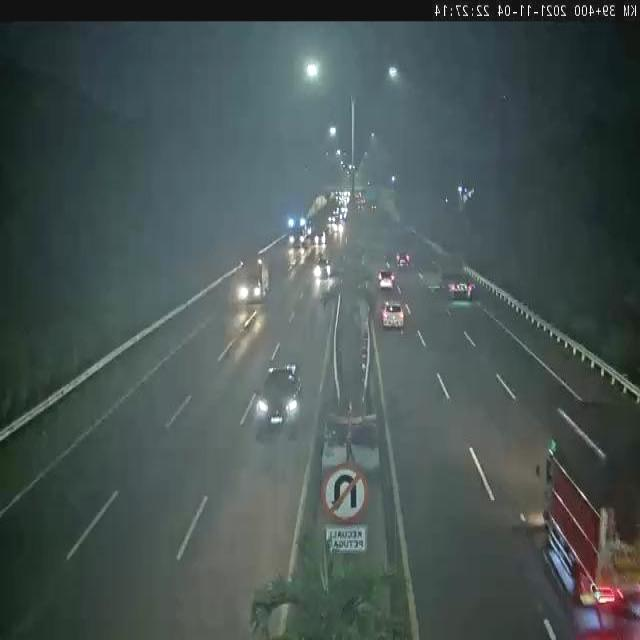Bus: (522, 385, 639, 640)
Car: (253, 358, 305, 448), (443, 264, 482, 308), (378, 293, 405, 334), (314, 255, 336, 283), (373, 264, 395, 290), (392, 246, 412, 274)
Truck: (231, 252, 272, 310), (283, 213, 311, 254)
